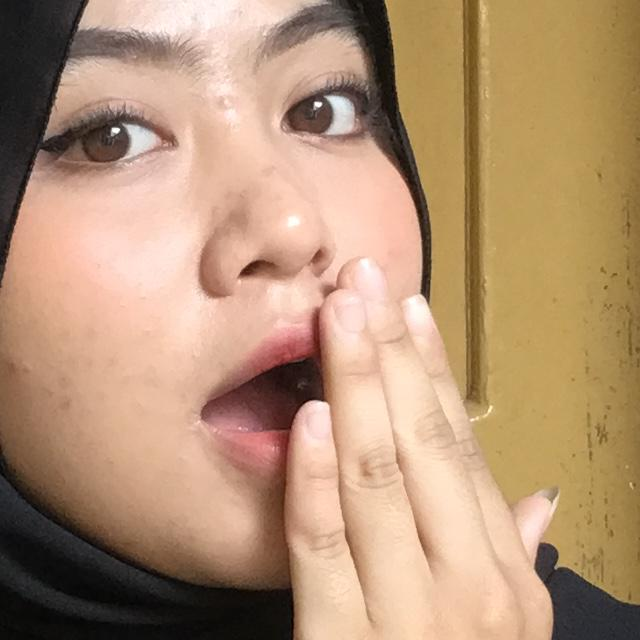ngantuk: (170, 226, 640, 640)
